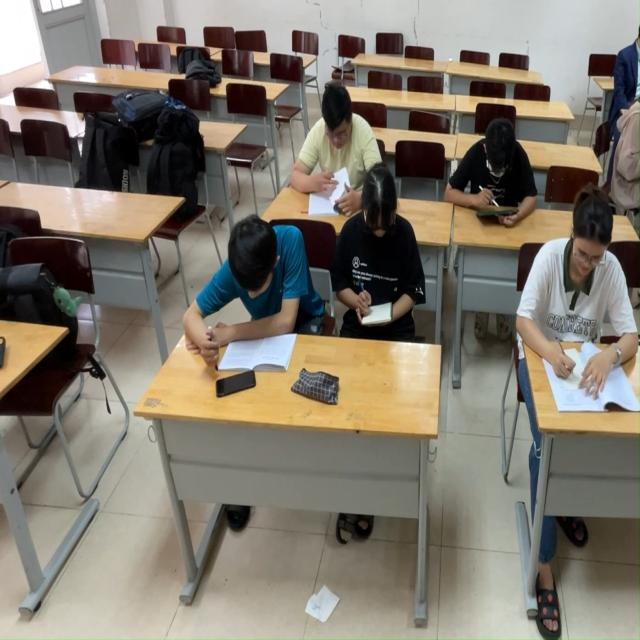read: (529, 182, 640, 412), (191, 206, 303, 387), (338, 175, 431, 333), (451, 110, 539, 235), (295, 80, 365, 221)
